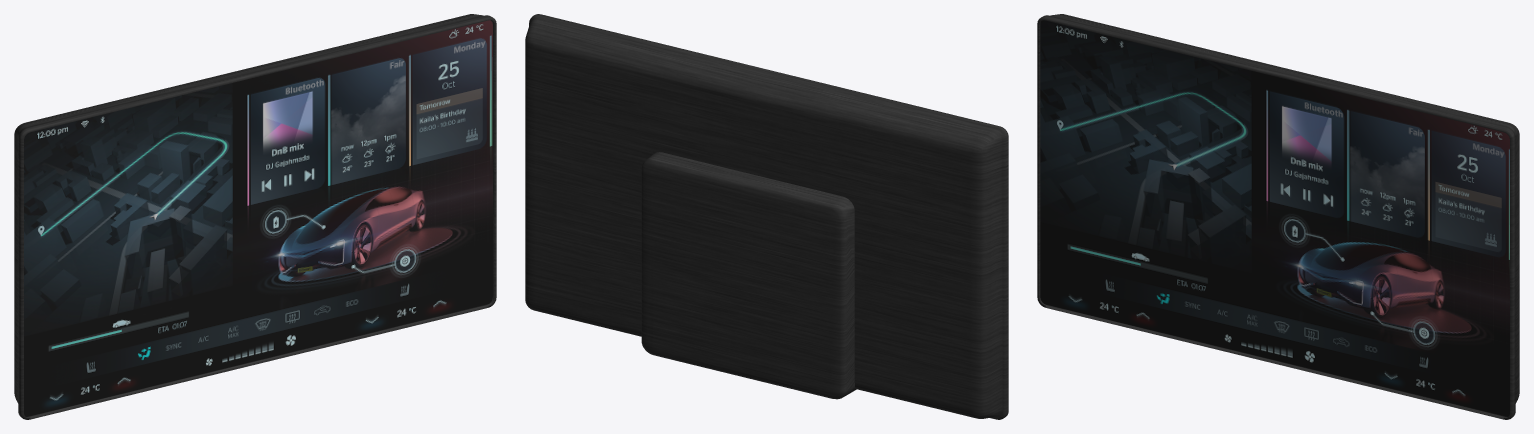
Rendered from CID_1.fbx.
3 views of the same model, side by side, from view 1: azimuth 30°, elevation 25°; view 2: azimuth 150°, elevation 25°; view 3: azimuth 330°, elevation 25° (orthographic).
Visible parts, largest first — view 1: CID_1; view 2: CID_1; view 3: CID_1.
Boxes of the visible parts, x1=… form: CID_1: x1=14, y1=14, x2=496, y2=419; CID_1: x1=525, y1=14, x2=1008, y2=419; CID_1: x1=1037, y1=14, x2=1519, y2=419.
Bounding box in the file's own units: 39.12 × 22.78 × 4.22.
Materials: 1 (1 with a texture image).
